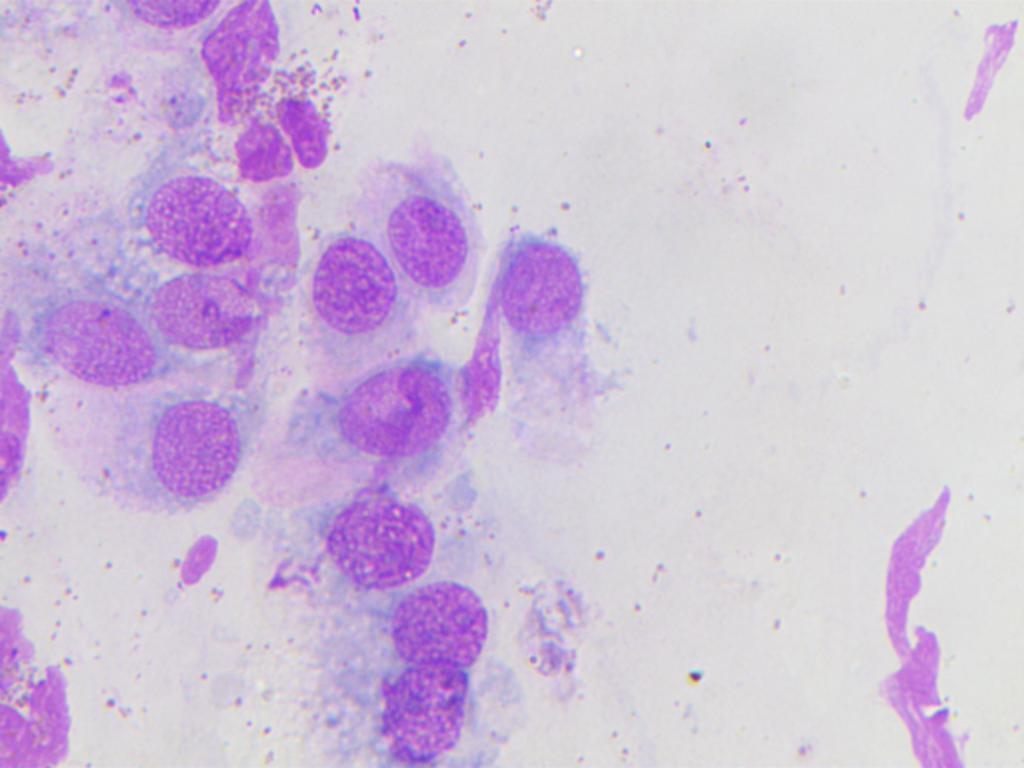artifact: (874, 467, 968, 768), (0, 591, 87, 768), (461, 290, 521, 432), (959, 0, 1024, 129), (0, 282, 29, 517)
eosinophil: (209, 48, 354, 186)
epithelial: (381, 130, 484, 304), (291, 348, 442, 458), (372, 661, 528, 767), (115, 390, 239, 498), (198, 0, 281, 132), (36, 296, 156, 387), (139, 172, 252, 266), (326, 496, 435, 587), (493, 237, 585, 341), (310, 232, 398, 337), (142, 272, 255, 352), (386, 579, 491, 663), (91, 0, 239, 41)
